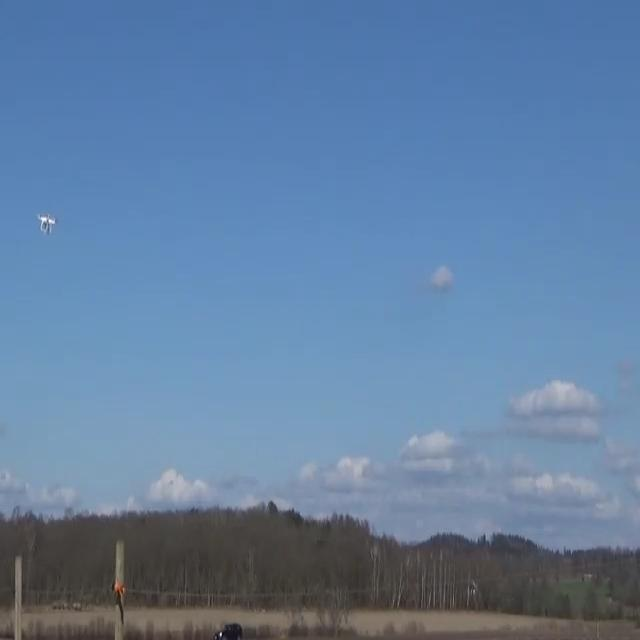Drone: (28, 205, 67, 244)
